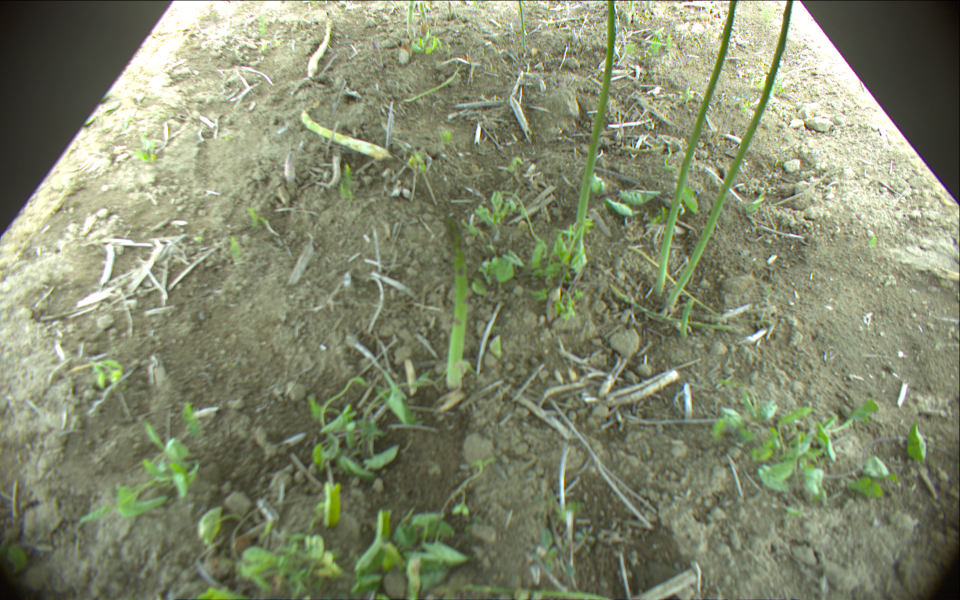aspa: (664, 1, 794, 313), (656, 1, 738, 295), (575, 1, 616, 251), (301, 111, 392, 159), (443, 218, 465, 389), (406, 64, 464, 101), (308, 14, 334, 77), (517, 1, 528, 53), (419, 1, 428, 30), (407, 1, 412, 27)
